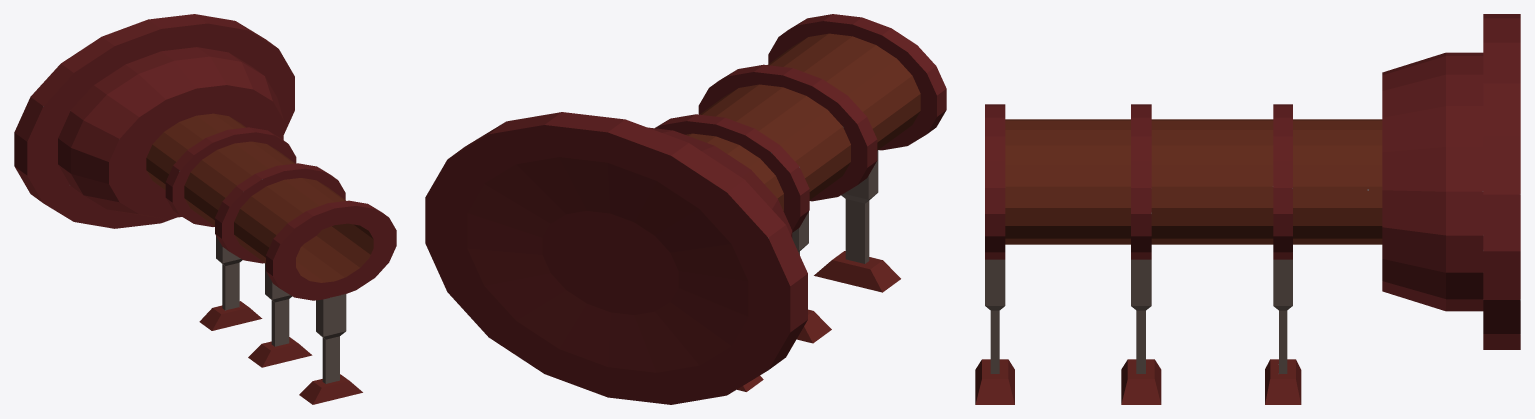
File: Pipeline.fbx
3 renders of one model, left to right at view 1: azimuth 30°, elevation 25°; view 2: azimuth 150°, elevation 25°; view 3: azimuth 270°, elevation 25°, orthographic. The views are drawn at different scales.
Parts seen in each view (by area): view 1: Cylinder; view 2: Cylinder; view 3: Cylinder.
Part boxes in pixels (x1=…): Cylinder: x1=14, y1=14, x2=396, y2=404; Cylinder: x1=425, y1=14, x2=946, y2=404; Cylinder: x1=975, y1=14, x2=1520, y2=404.
Bounding box in the file's own units: 2641 × 2265 × 3246.
Materials: 1 (1 with a texture image).
